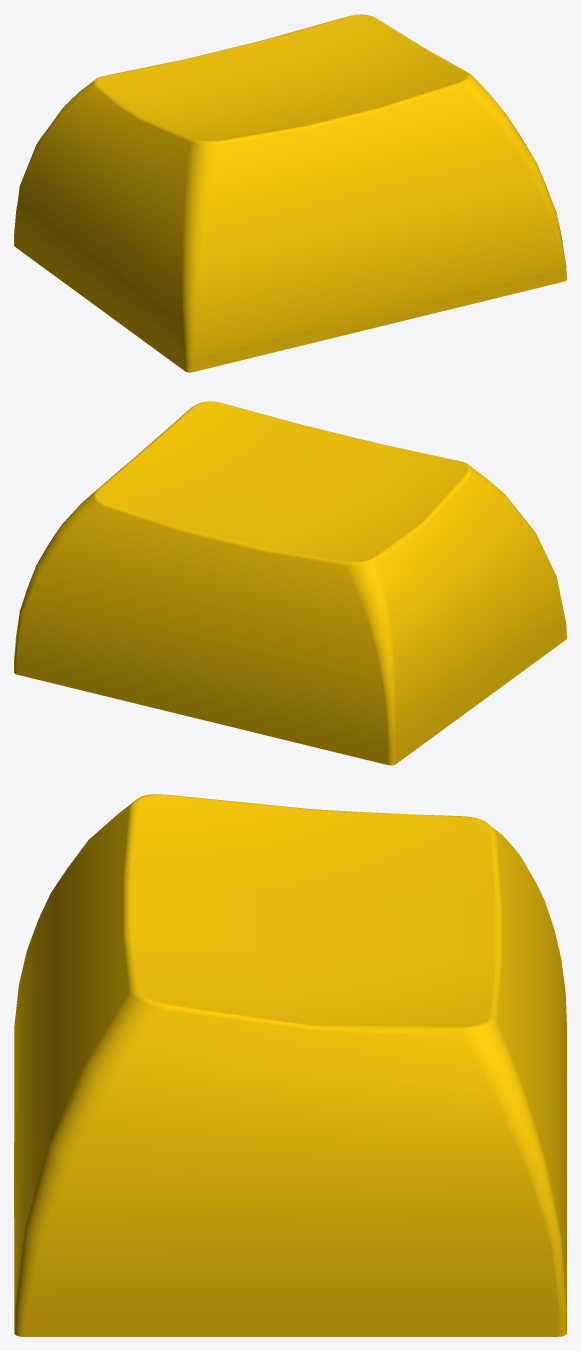
Rendered from KAT_1_25u_r5.glb.
3 renders of one model, top to bottom at view 1: azimuth 30°, elevation 25°; view 2: azimuth 150°, elevation 25°; view 3: azimuth 270°, elevation 25°, orthographic. The views are drawn at different scales.
Parts seen in each view (by area): view 1: Object.076; view 2: Object.076; view 3: Object.076.
Part boxes in pixels (x1=…): Object.076: x1=14, y1=14, x2=566, y2=372; Object.076: x1=14, y1=401, x2=566, y2=765; Object.076: x1=14, y1=794, x2=566, y2=1336.
Bounding box in the file's own units: 22.75 × 10.68 × 18.21.
